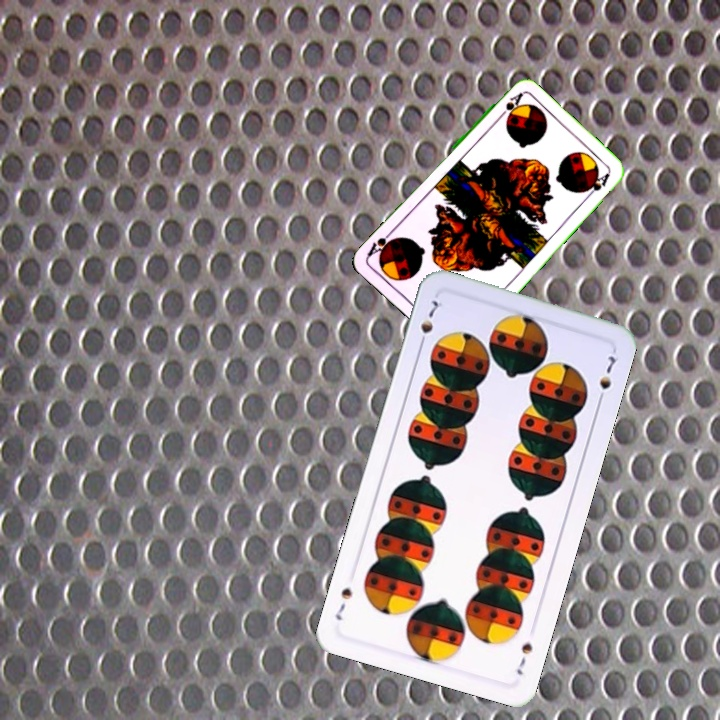S7: (415, 297, 441, 351), (512, 638, 535, 678)
SA: (493, 89, 525, 123)
